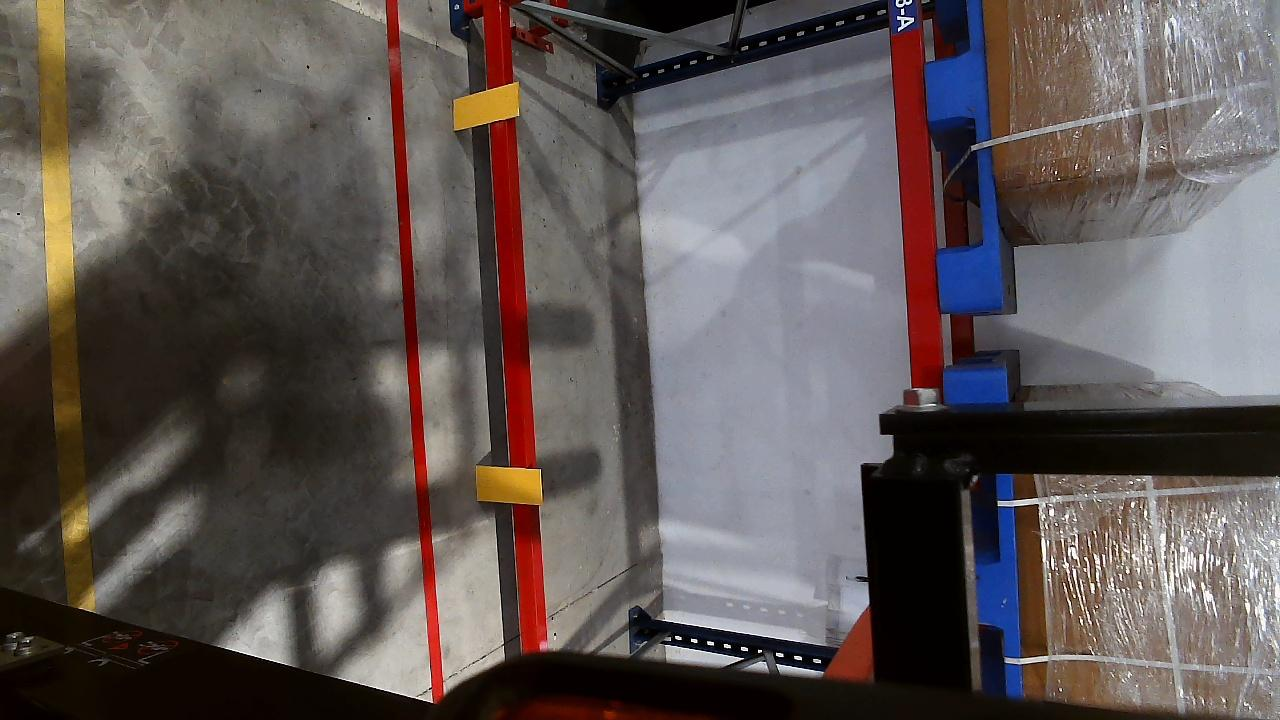h_rack: (483, 2, 546, 646), (884, 1, 949, 406)
orange_strip: (451, 83, 520, 130), (475, 464, 542, 505)
red_line: (386, 0, 448, 690)
small_pallet: (916, 0, 1009, 305), (944, 369, 1024, 705)
yellow_line: (34, 0, 91, 607)
